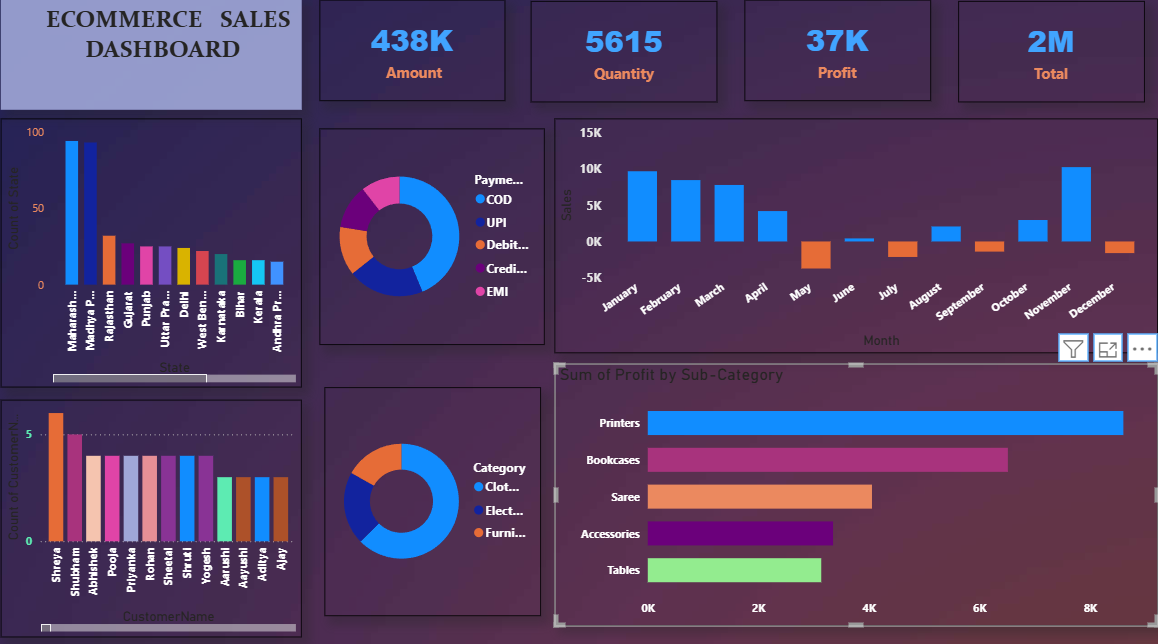

Layout of this report page (visuals, bound fields, positions):
{"tool":"powerbi","page":{"name":"Page 1","canvas":[1280,720],"ordinal":0},"visuals":[{"type":"columnChart","fields":{"Y":["Details.Profit"],"Category":["Orders.Order Date.Variation.Date Hierarchy.Month"]},"box":[617.5,140,662.8,258],"z":0},{"type":"textbox","box":[9.7,9.7,330.6,120.6],"z":1000},{"type":"barChart","fields":{"Y":["Details.Profit"],"Category":["Details.Sub-Category"]},"box":[617.5,408.9,662.8,288.2],"z":2000},{"type":"pieChart","fields":{"Category":["Details.Category"],"Y":["Details.Quantity"]},"box":[365.6,435.5,237.7,250.9],"z":3000},{"type":"pieChart","fields":{"Y":["Details.Quantity"],"Category":["Details.PaymentMode"]},"box":[359.5,150.8,247.3,237.7],"z":4000},{"type":"card","fields":{"Values":["Details.Amount"]},"box":[359.5,9.7,203.9,111],"z":5000},{"type":"card","fields":{"Values":["Details.Profit"]},"box":[826.1,9.6,204.5,111.1],"z":6000},{"type":"card","fields":{"Values":["Details.Quantity"]},"box":[591.2,10.9,205.1,111],"z":7000},{"type":"card","fields":{"Values":["Details.Total"]},"box":[1060.7,11,204.5,111.1],"z":8000},{"type":"columnChart","fields":{"Category":["Orders.State"],"Series":["Orders.State"],"Y":["Orders.State"]},"box":[9.7,139.9,330.6,295.6],"z":9000},{"type":"clusteredColumnChart","fields":{"Category":["Orders.CustomerName"],"Y":["Orders.CustomerName"]},"box":[9.7,448.8,330.6,260.6],"z":10000}]}

Visuals, with their boxes in screenshot pixels (x1, y1, x2, y2), scaled from the page's 1280x720 canvas onto the 1158x644 screenshot:
columnChart - Details.Profit x Orders.Order Date.Variation.Date Hierarchy.Month: (left=559, top=125, right=1157, bottom=356)
textbox: (left=9, top=9, right=308, bottom=117)
barChart - Details.Profit x Details.Sub-Category: (left=559, top=366, right=1157, bottom=624)
pieChart - Details.Category x Details.Quantity: (left=331, top=390, right=546, bottom=614)
pieChart - Details.Quantity x Details.PaymentMode: (left=325, top=135, right=549, bottom=347)
card - Details.Amount: (left=325, top=9, right=510, bottom=108)
card - Details.Profit: (left=747, top=9, right=932, bottom=108)
card - Details.Quantity: (left=535, top=10, right=720, bottom=109)
card - Details.Total: (left=960, top=10, right=1145, bottom=109)
columnChart - Orders.State x Orders.State: (left=9, top=125, right=308, bottom=390)
clusteredColumnChart - Orders.CustomerName x Orders.CustomerName: (left=9, top=401, right=308, bottom=635)
